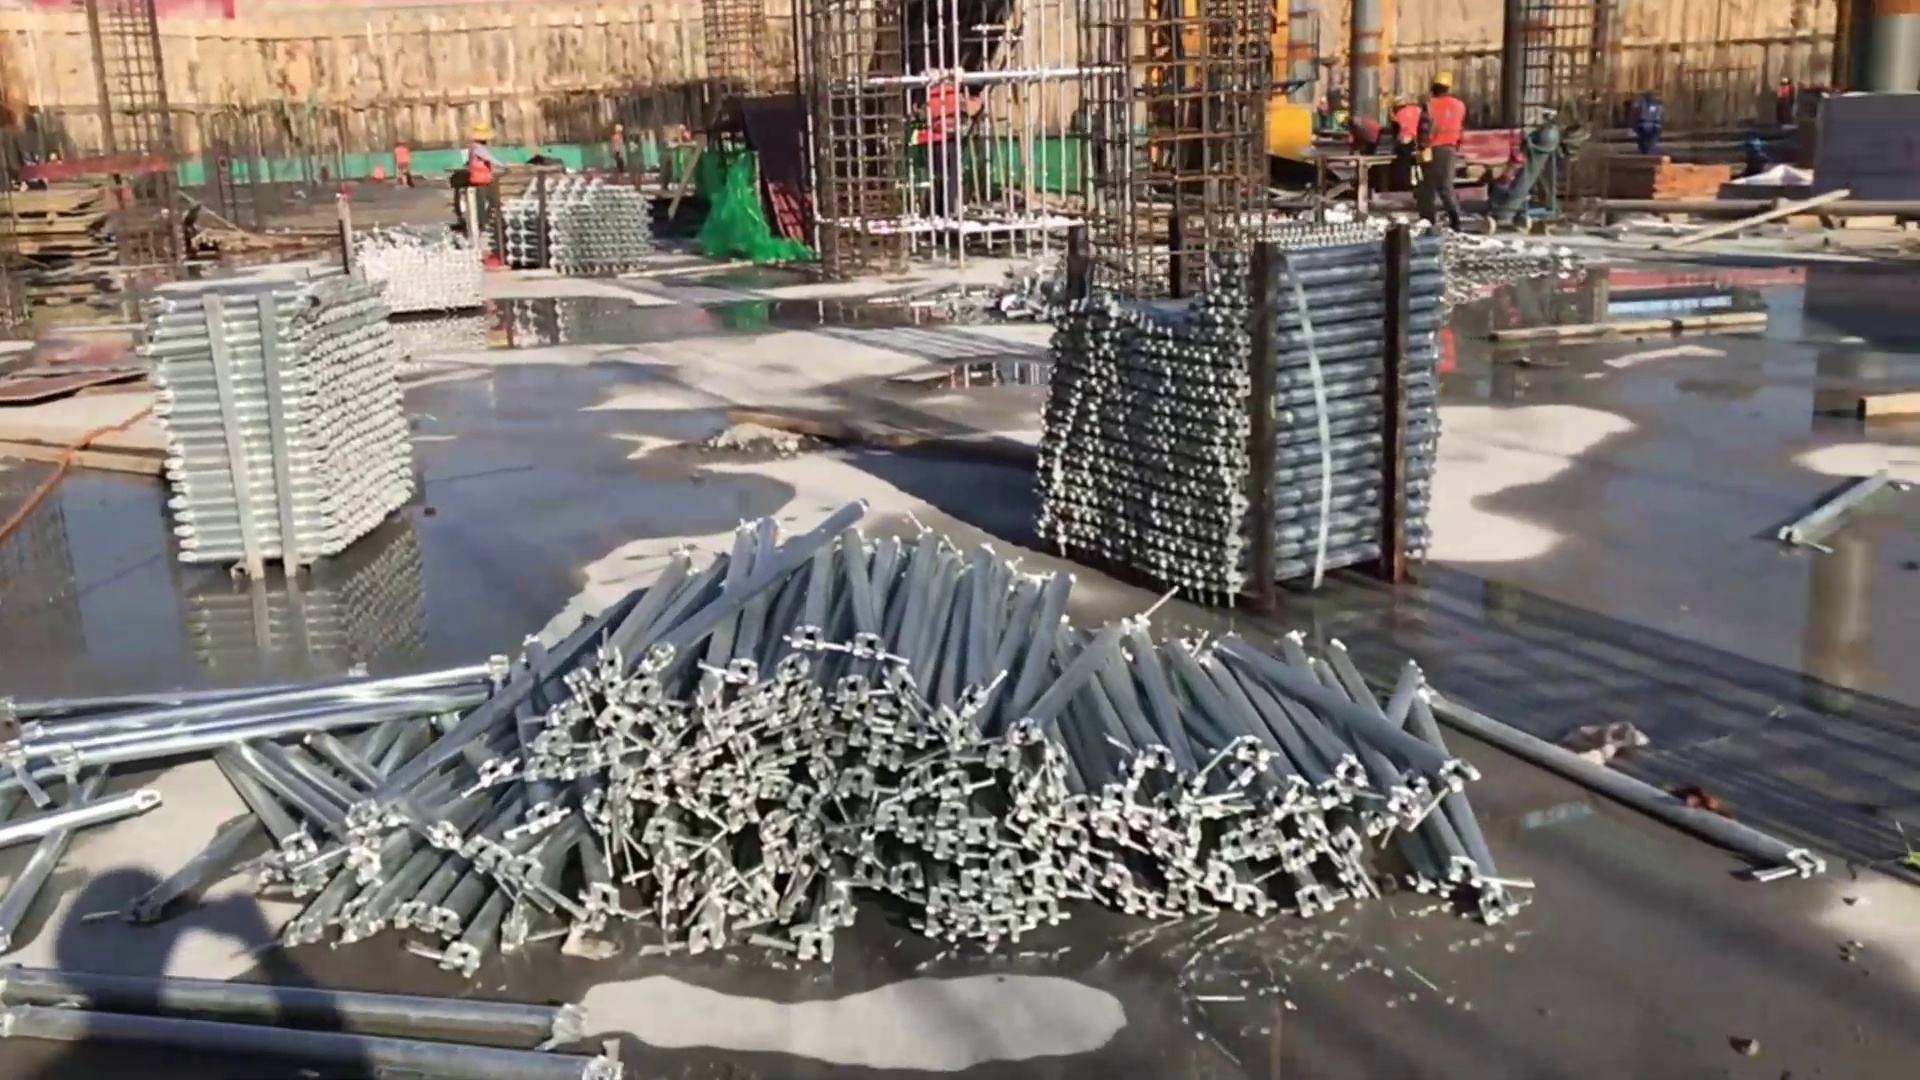board: (1, 181, 108, 253)
person: (1421, 69, 1474, 222), (458, 120, 504, 238), (1378, 91, 1423, 162), (1331, 104, 1381, 164), (1629, 87, 1661, 151), (612, 118, 638, 179), (386, 133, 413, 185)
scaffold: (401, 501, 1490, 956), (1047, 228, 1426, 595), (150, 269, 416, 570)
vest: (1427, 93, 1465, 152)
